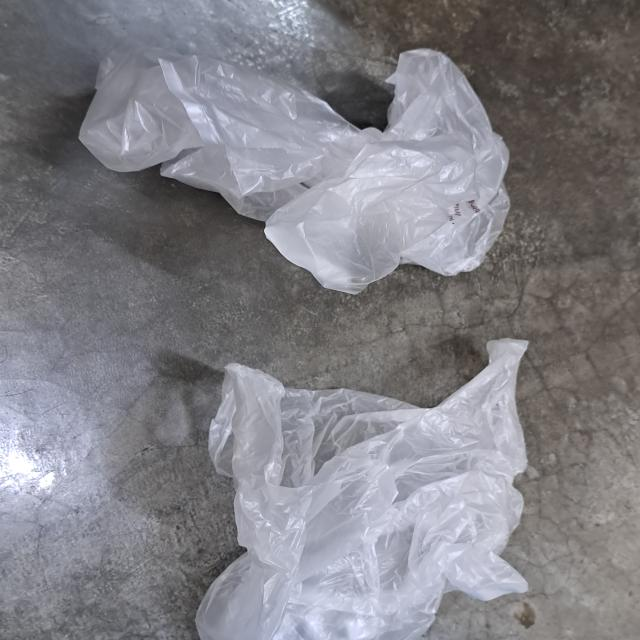plastic bag: (78, 46, 514, 297), (191, 338, 529, 640)
